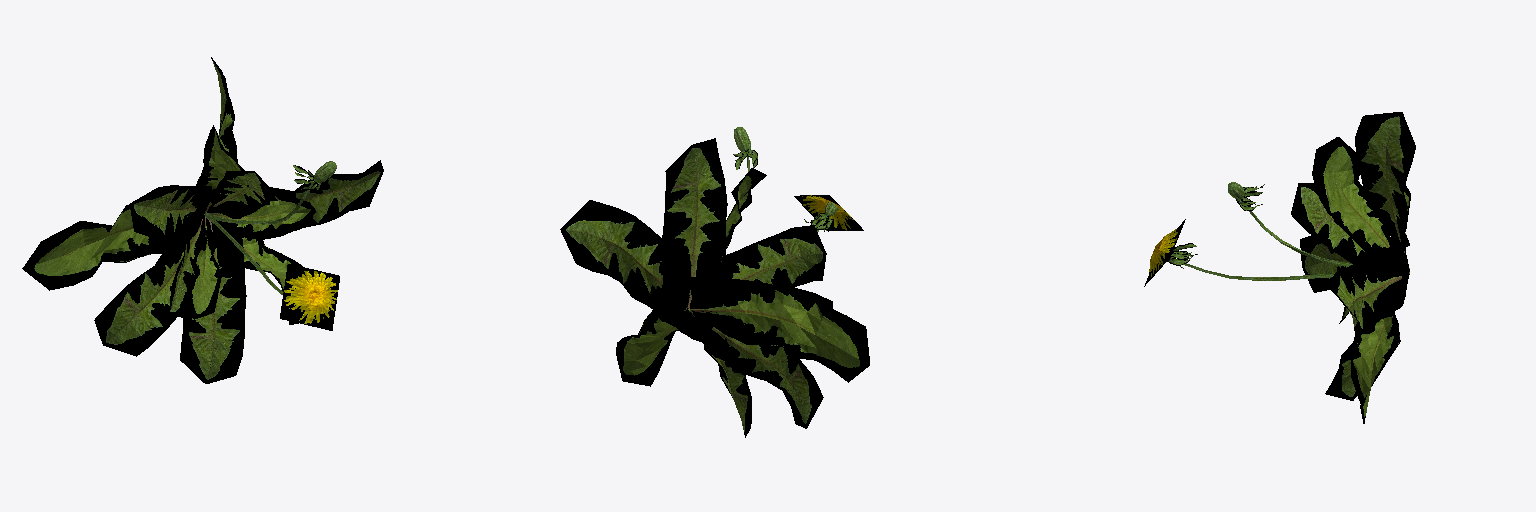
3 views of the same model, side by side, from view 1: azimuth 30°, elevation 25°; view 2: azimuth 150°, elevation 25°; view 3: azimuth 270°, elevation 25° (orthographic).
Visible parts, largest first — view 1: GC17_3; view 2: GC17_3; view 3: GC17_3.
Boxes of the visible parts, x1,y1,x2,y2 form: GC17_3: [22, 57, 383, 383]; GC17_3: [560, 127, 869, 437]; GC17_3: [1144, 112, 1415, 423].
Bounding box in the file's own units: 2.7 × 2.33 × 1.89.
5 materials, 5 textured.